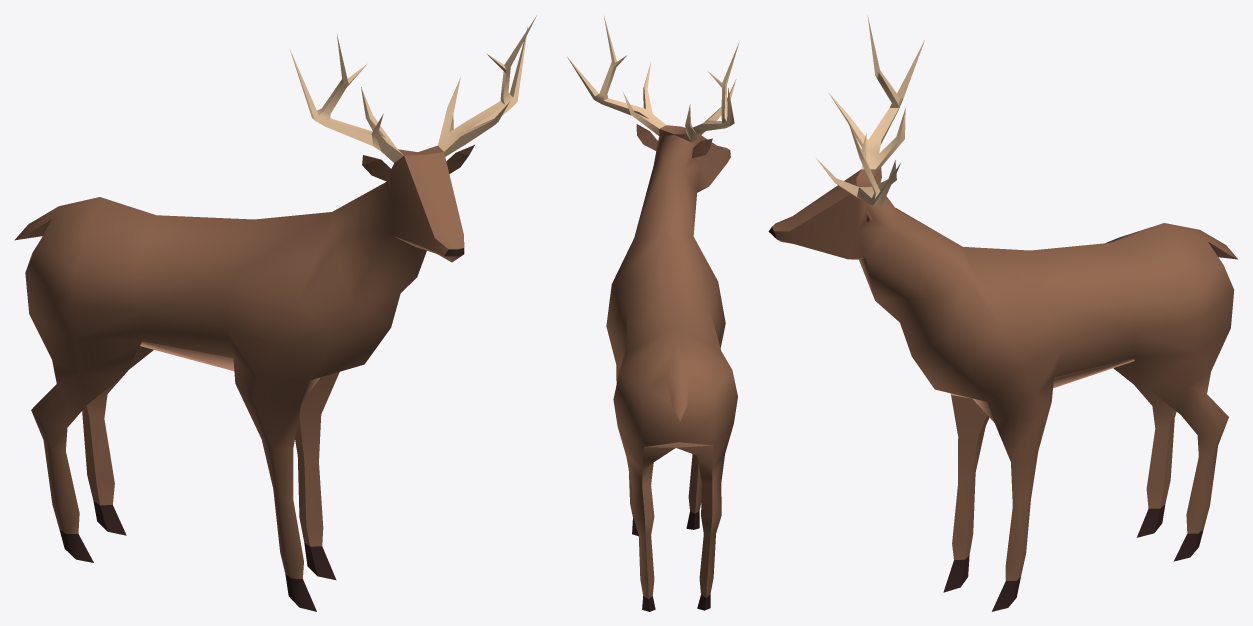
File: deer-ver1.glb
The picture shows the model from 3 angles, left to right: view 1: azimuth 30°, elevation 25°; view 2: azimuth 150°, elevation 25°; view 3: azimuth 270°, elevation 25°; orthographic projection. The views are drawn at different scales.
Visible parts, largest first — view 1: Deer-ver1_Texture-base_0; view 2: Deer-ver1_Texture-base_0; view 3: Deer-ver1_Texture-base_0.
Boxes of the visible parts, <box> form: Deer-ver1_Texture-base_0: <box>14,15,536,611</box>; Deer-ver1_Texture-base_0: <box>567,16,739,611</box>; Deer-ver1_Texture-base_0: <box>768,15,1237,611</box>.
Bounding box in the file's own units: 1.3 × 2.19 × 1.64.
1 material, 1 textured.
